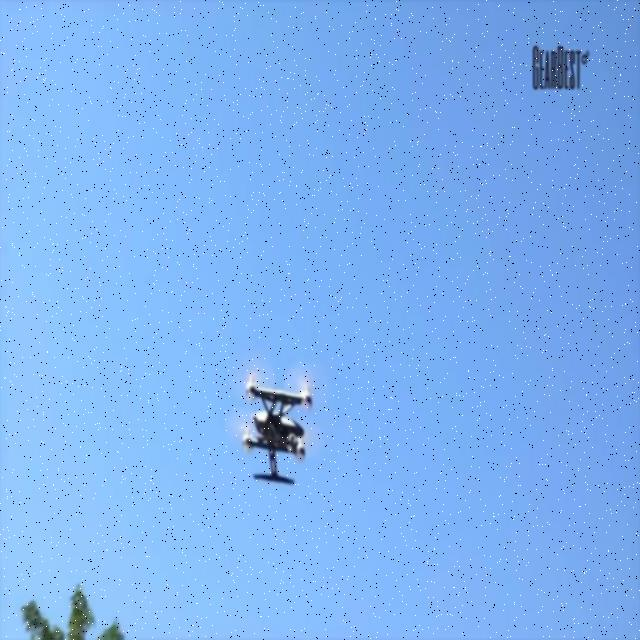UAV: (240, 372, 312, 486)
